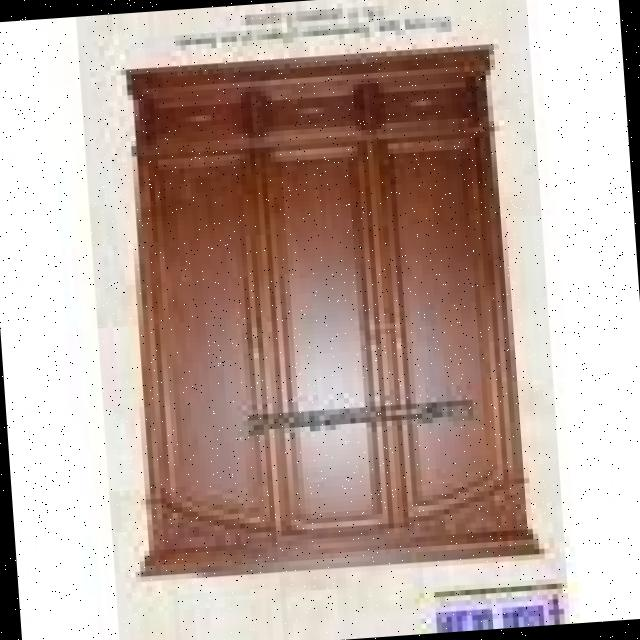Closet: (96, 29, 548, 598)
